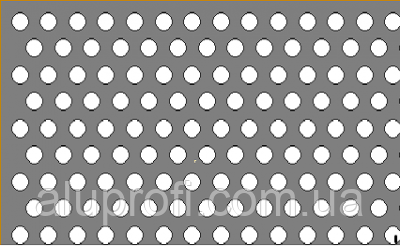Hole: (279, 142, 304, 167), (165, 143, 191, 167), (367, 35, 391, 60), (252, 35, 276, 60), (295, 62, 319, 87), (22, 89, 46, 114), (36, 117, 61, 141), (352, 117, 377, 141), (195, 142, 219, 167), (294, 222, 319, 246), (123, 8, 146, 34), (152, 62, 175, 88), (267, 62, 290, 88), (324, 62, 347, 88), (309, 36, 333, 60), (137, 88, 161, 112), (267, 117, 291, 141), (339, 143, 363, 167), (123, 170, 147, 194), (7, 222, 31, 246), (296, 9, 319, 34), (324, 9, 347, 34), (353, 9, 376, 34), (366, 89, 391, 112), (222, 89, 247, 112), (123, 116, 146, 141), (238, 117, 261, 142), (310, 143, 333, 168), (137, 142, 160, 167), (66, 169, 89, 194), (94, 170, 119, 193), (366, 194, 389, 219), (237, 221, 260, 246), (181, 221, 204, 246), (123, 221, 146, 246), (9, 9, 31, 35), (95, 9, 117, 35), (267, 9, 289, 35), (367, 142, 389, 168), (166, 36, 189, 60), (137, 35, 160, 59), (80, 36, 104, 59), (66, 63, 89, 87), (209, 63, 232, 87), (310, 89, 333, 113), (280, 89, 303, 113), (52, 89, 75, 113), (65, 117, 89, 140), (252, 143, 275, 167), (224, 143, 247, 167), (109, 143, 133, 166), (52, 143, 75, 167), (23, 143, 46, 167), (8, 170, 31, 194), (151, 170, 175, 193), (210, 171, 234, 194), (325, 170, 348, 194), (267, 222, 290, 246), (209, 223, 233, 246), (37, 9, 59, 34), (153, 10, 175, 35), (210, 9, 232, 34), (238, 9, 260, 34), (196, 35, 218, 60), (181, 63, 203, 88), (237, 62, 259, 87), (297, 117, 319, 142), (325, 117, 347, 142), (340, 34, 361, 60), (339, 89, 362, 112), (8, 117, 31, 140), (94, 117, 117, 140), (80, 143, 103, 166), (296, 170, 319, 193), (353, 223, 376, 246), (324, 223, 347, 246), (93, 223, 116, 246), (181, 9, 203, 33), (23, 35, 45, 59), (354, 63, 376, 87), (109, 89, 131, 113), (153, 117, 175, 141), (181, 117, 203, 141), (152, 222, 174, 246), (210, 116, 231, 141), (66, 10, 88, 33), (281, 36, 303, 59), (223, 36, 245, 59), (52, 36, 74, 59), (8, 64, 31, 86), (37, 64, 60, 86), (95, 64, 117, 87), (253, 90, 276, 112), (80, 89, 102, 112), (266, 170, 289, 192), (355, 171, 377, 194), (66, 223, 88, 246), (37, 223, 60, 245), (196, 89, 217, 113), (124, 64, 146, 86), (37, 171, 59, 193), (238, 170, 260, 192), (110, 36, 131, 59), (167, 89, 188, 112), (182, 171, 203, 193)
